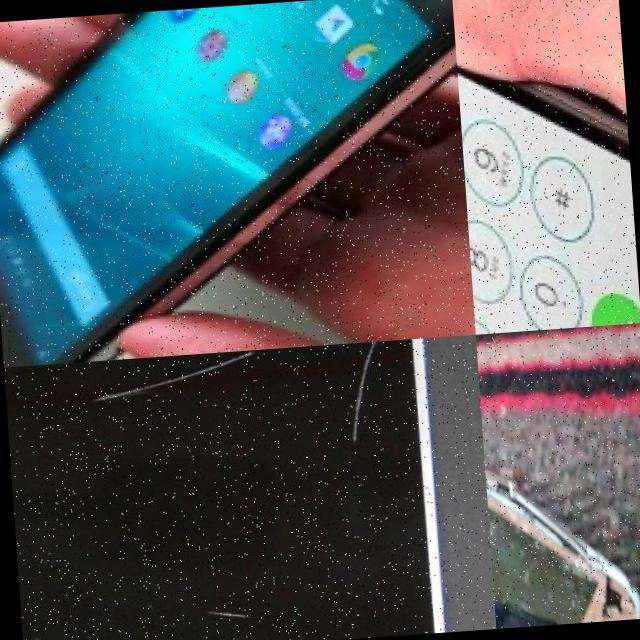scratch: (79, 350, 262, 416), (348, 340, 395, 433), (21, 622, 89, 640)
screen crack: (474, 323, 640, 629)
